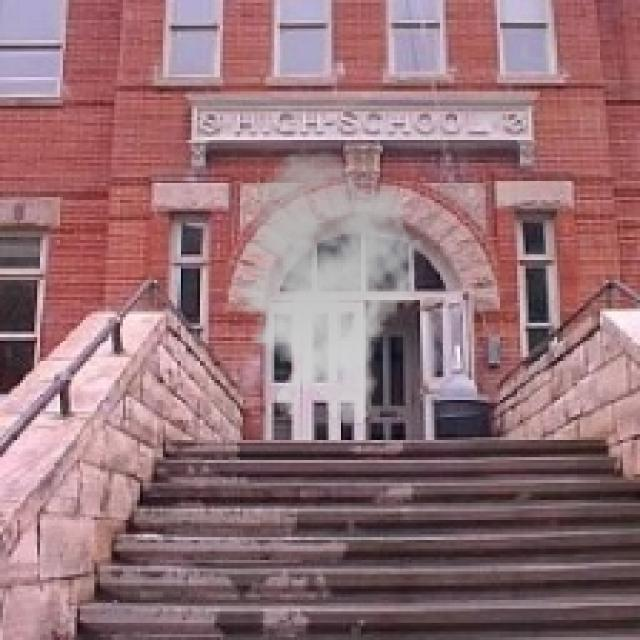Smoke: (221, 148, 428, 428)
